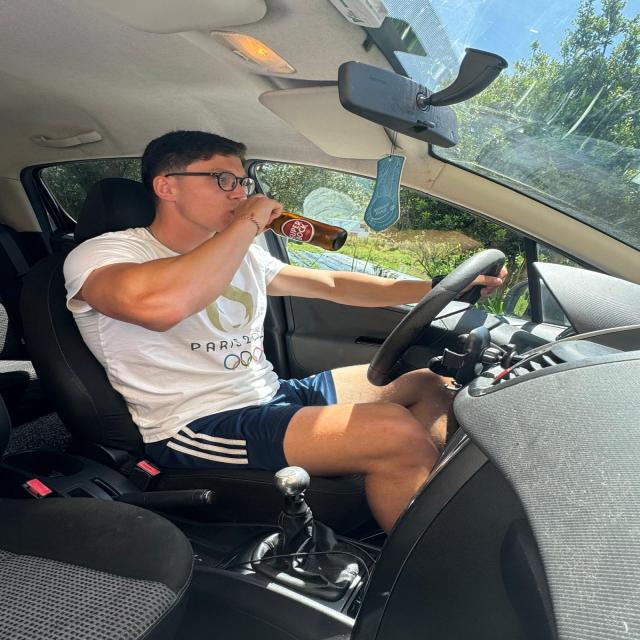Drinking: (228, 190, 360, 264)
